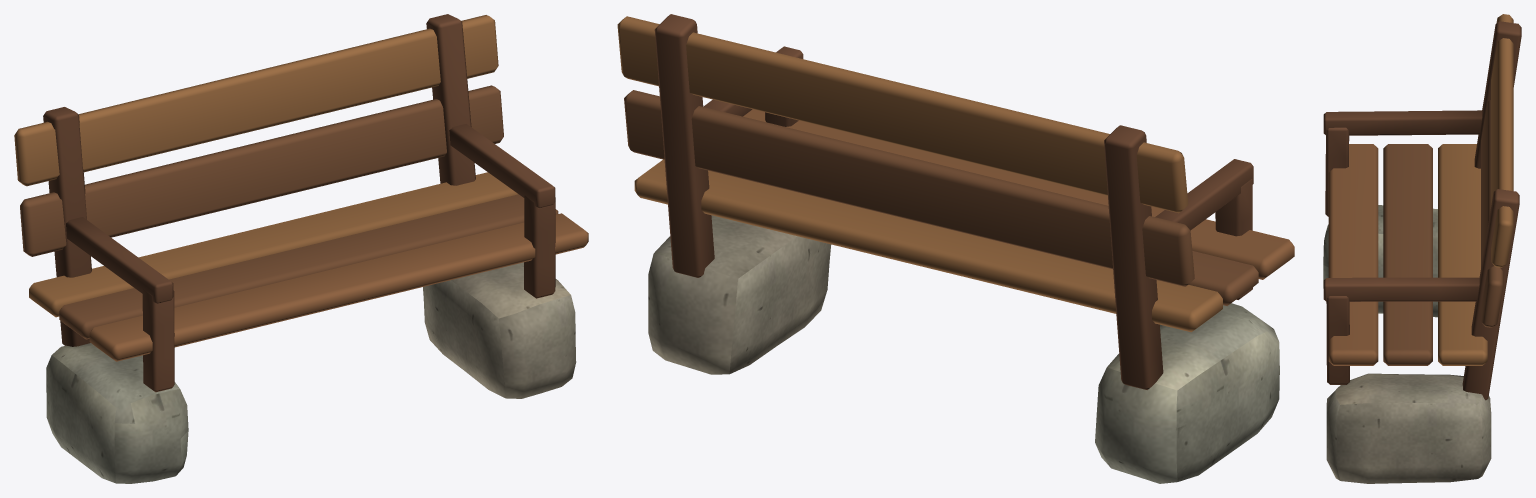
File: bench.gltf
The picture shows the model from 3 angles, left to right: view 1: azimuth 30°, elevation 25°; view 2: azimuth 150°, elevation 25°; view 3: azimuth 270°, elevation 25°; orthographic projection. The views are drawn at different scales.
Visible parts, largest first — view 1: Bench, Stones; view 2: Bench, Stones; view 3: Bench, Stones.
Part boxes in pixels (x1,y1,x2,y2): Bench: (14, 14, 588, 392); Stones: (46, 262, 576, 483); Bench: (617, 14, 1294, 389); Stones: (648, 215, 1279, 483); Bench: (1323, 14, 1521, 400); Stones: (1323, 205, 1491, 483).
Bounding box in the file's own units: 1.5 × 0.9426 × 0.5999.
Materials: 5 (1 with a texture image).
